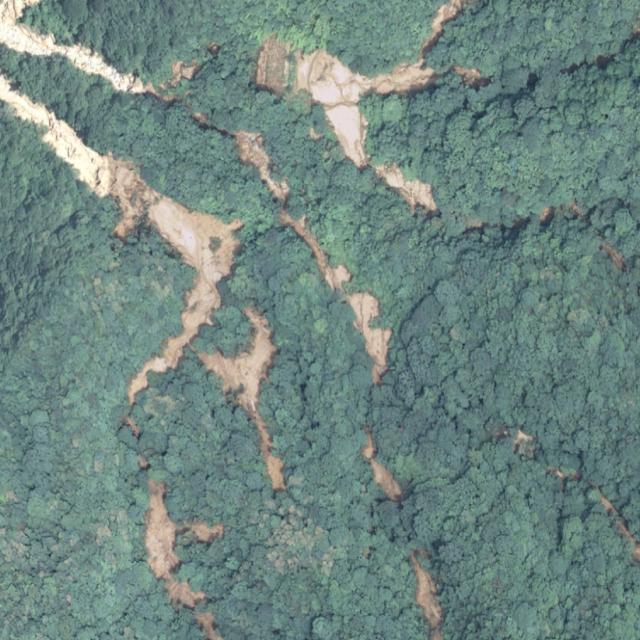landslide: (0, 0, 392, 385), (0, 73, 243, 407), (254, 0, 463, 169), (195, 307, 287, 493), (145, 480, 222, 639), (374, 163, 438, 213), (362, 429, 404, 503), (411, 552, 443, 639)
